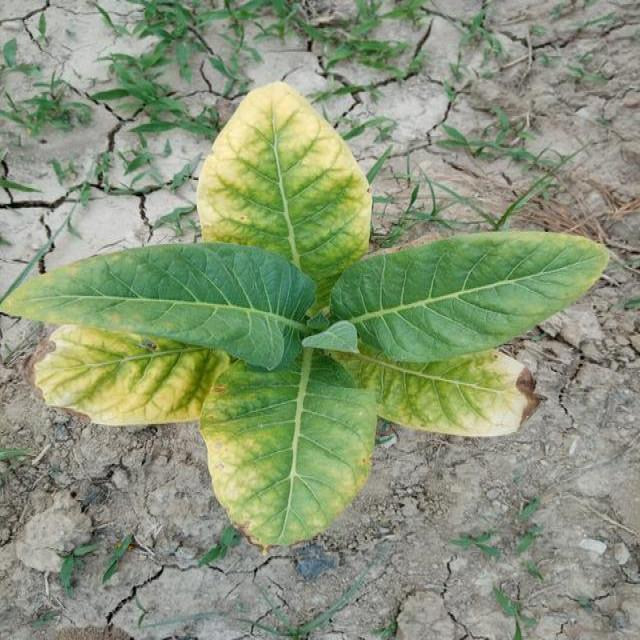crop: (6, 95, 606, 556)
